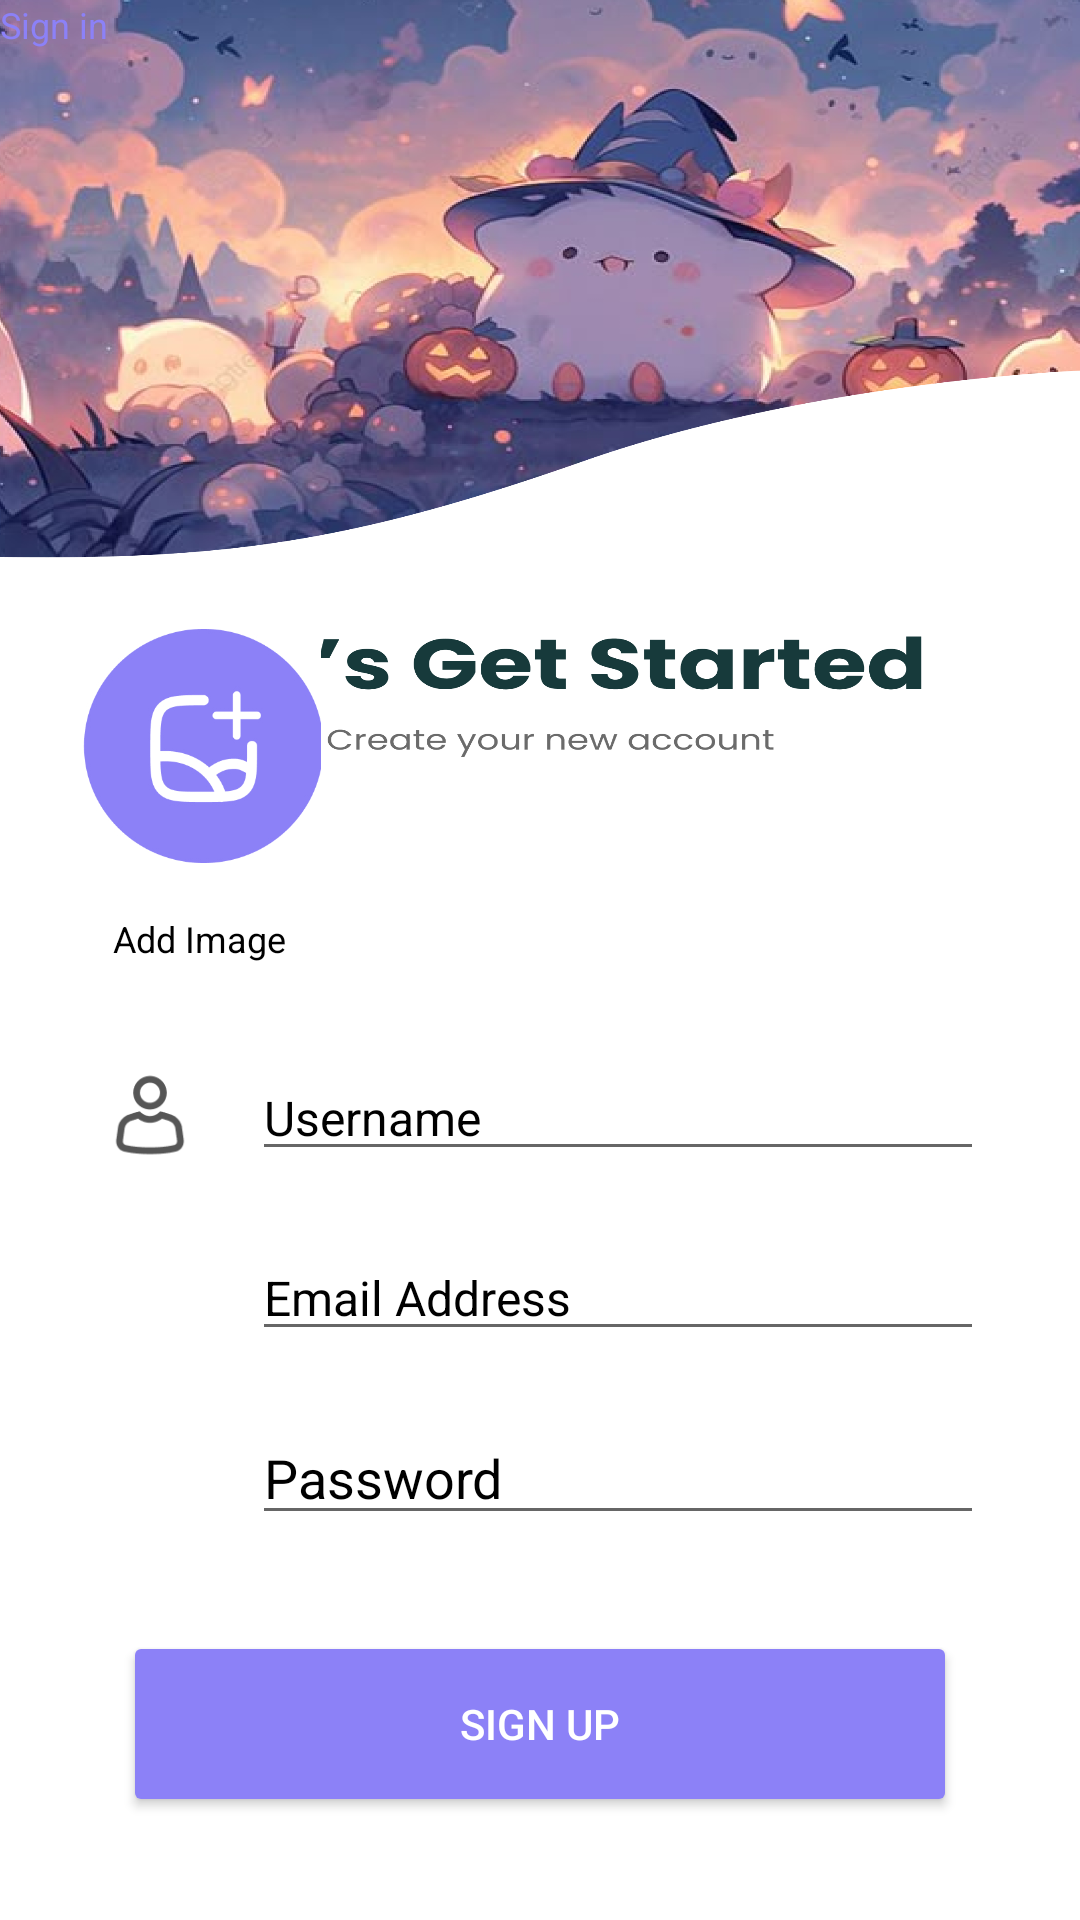

Screen size 1080×1920. Icon name, then its center in pixels as point (x, y):
person: point (150, 1115)
